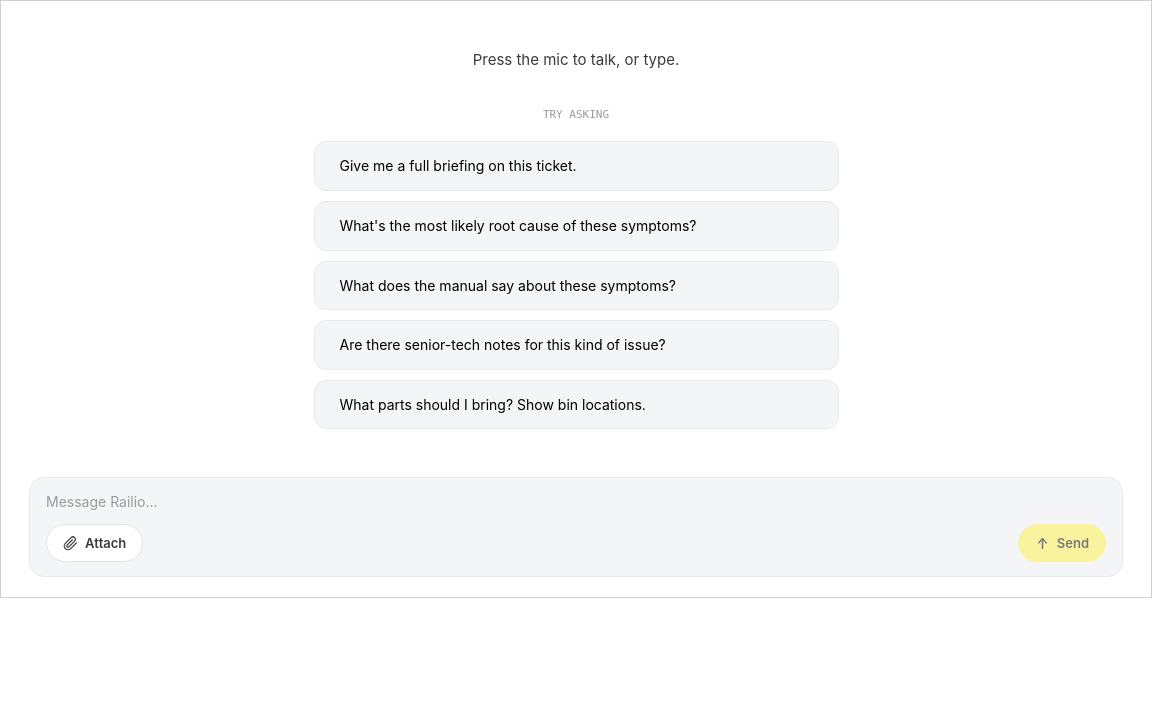
Test: ChatPane streaming › accumulates tokens in order
Step 1. Type "hi" into the text box with placeholder "Message Railio…" → (576, 502), box top-left (46, 492), bottom-right (1106, 512)
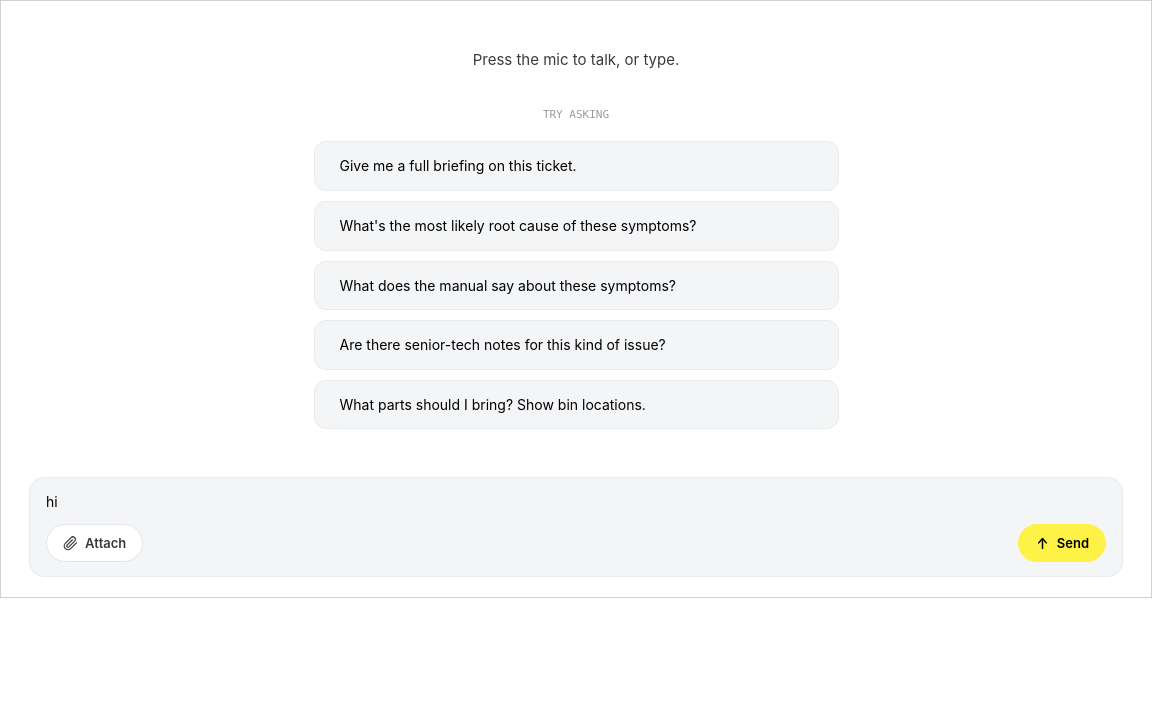
Step 2. Click the button labelled "Send" → (1062, 543), box top-left (1018, 524), bottom-right (1106, 562)
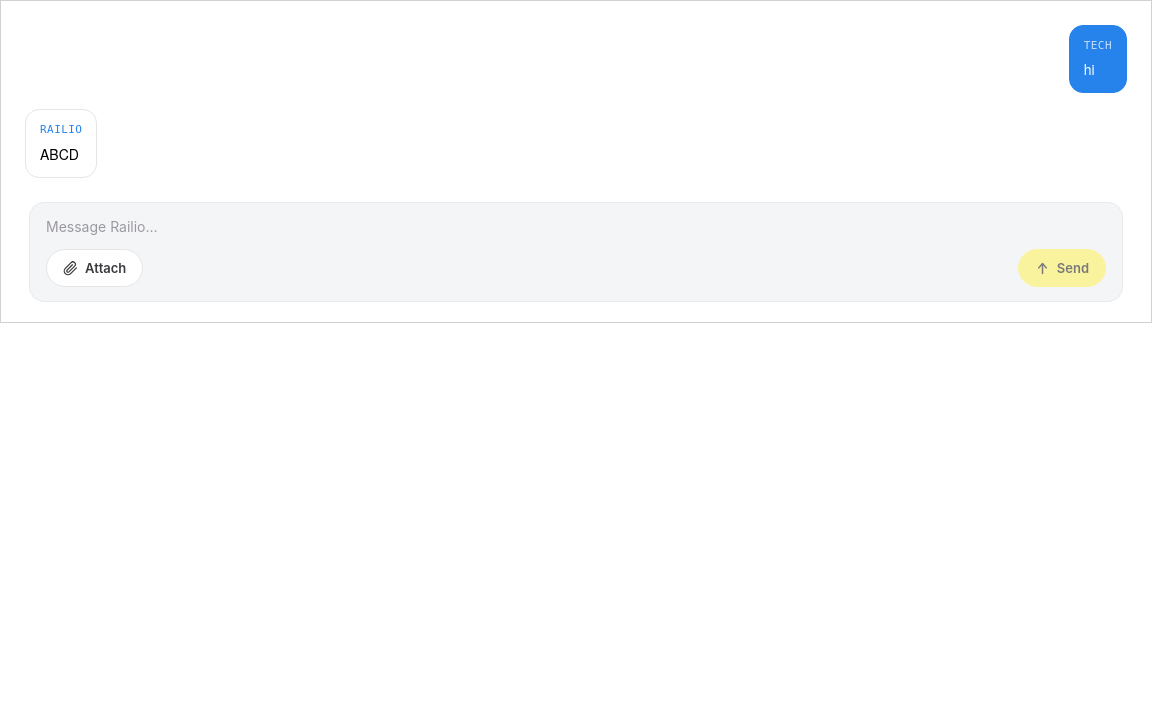
Expected: the text "ABCD" is shown, top-left (40, 144), bottom-right (82, 166)
